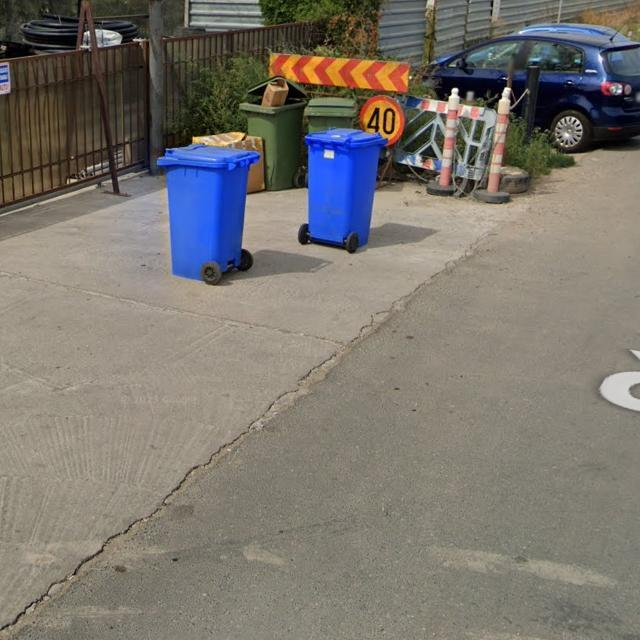forb_speed_over_40: (359, 95, 405, 144)
